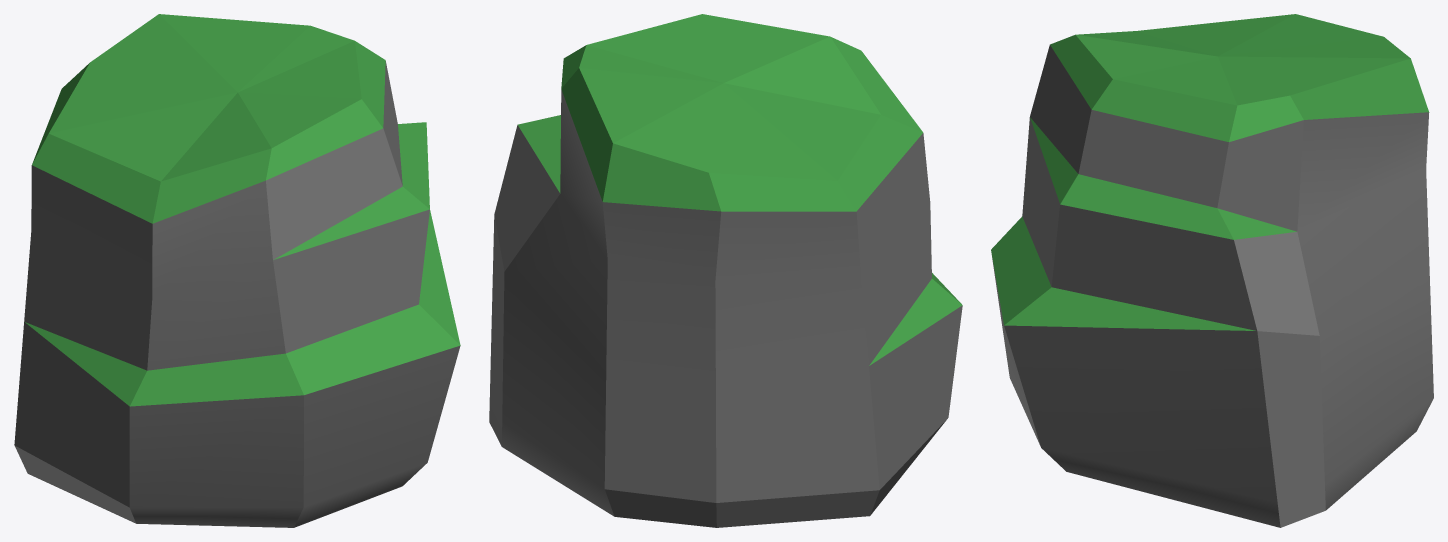
File: Rock_F.fbx
The picture shows the model from 3 angles, left to right: view 1: azimuth 30°, elevation 25°; view 2: azimuth 150°, elevation 25°; view 3: azimuth 270°, elevation 25°; orthographic projection. The views are drawn at different scales.
Visible parts, largest first — view 1: Rock_F; view 2: Rock_F; view 3: Rock_F.
Part boxes in pixels (x1=…): Rock_F: x1=14, y1=14, x2=460, y2=527; Rock_F: x1=489, y1=14, x2=962, y2=527; Rock_F: x1=991, y1=14, x2=1433, y2=527.
Bounding box in the file's own units: 654 × 601 × 618.
